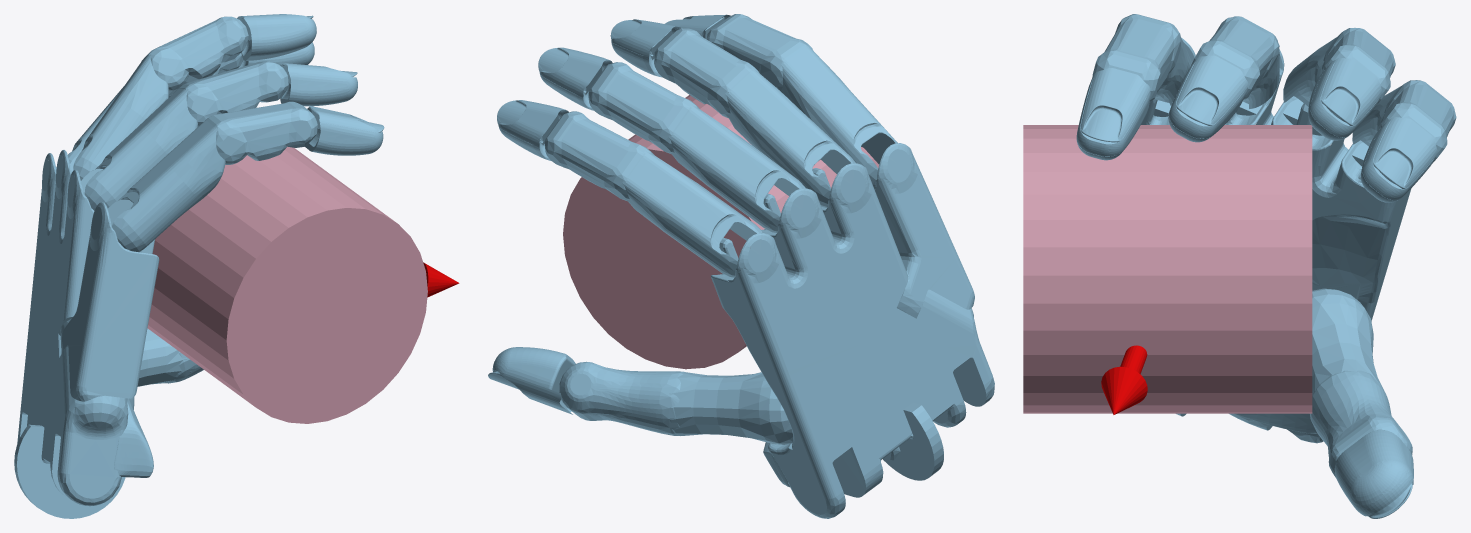
The picture shows the model from 3 angles, left to right: view 1: azimuth 30°, elevation 25°; view 2: azimuth 150°, elevation 25°; view 3: azimuth 270°, elevation 25°; orthographic projection. The views are drawn at different scales.
Parts seen in each view (by area): view 1: world, cylinder_medium.stl; view 2: world, cylinder_medium.stl; view 3: cylinder_medium.stl, world.
Boxes of the visible parts, box(x1,y1,x2,y2) form: world: box(14, 14, 459, 518); cylinder_medium.stl: box(147, 146, 427, 423); world: box(488, 14, 994, 518); cylinder_medium.stl: box(563, 95, 878, 369); cylinder_medium.stl: box(1023, 125, 1312, 413); world: box(1076, 14, 1456, 518).
Size of the model in its own units: 0.1606 by 0.1541 by 0.1199.
